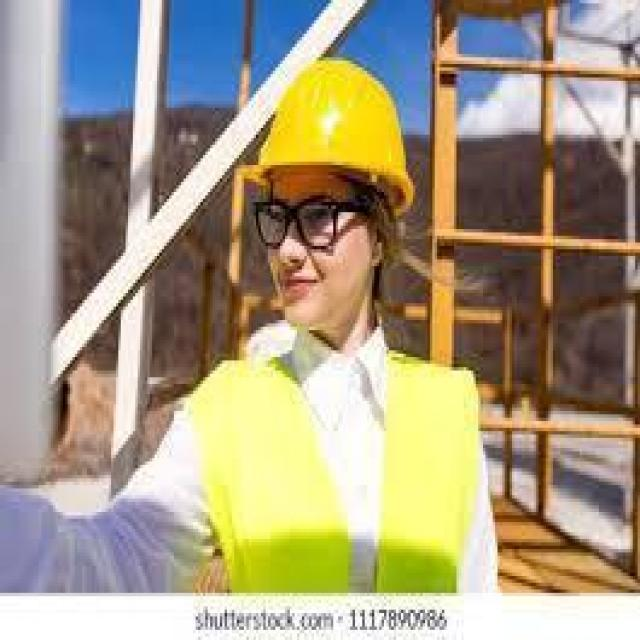hat: (237, 61, 416, 213)
